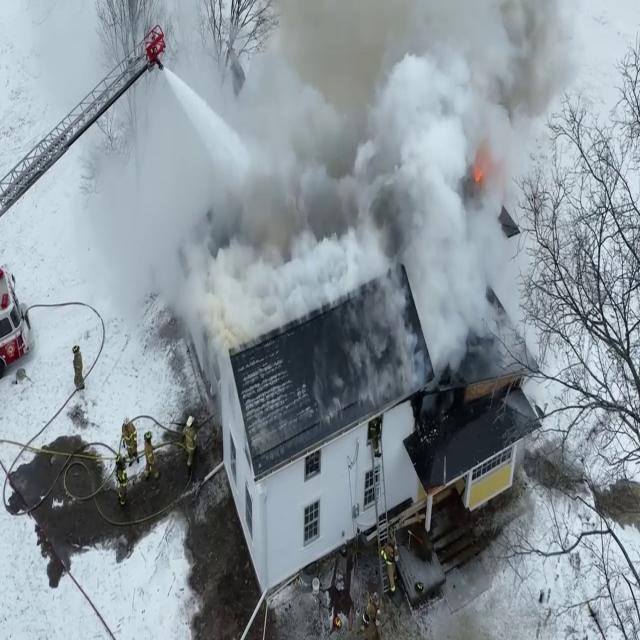Smoke: (32, 0, 571, 380)
